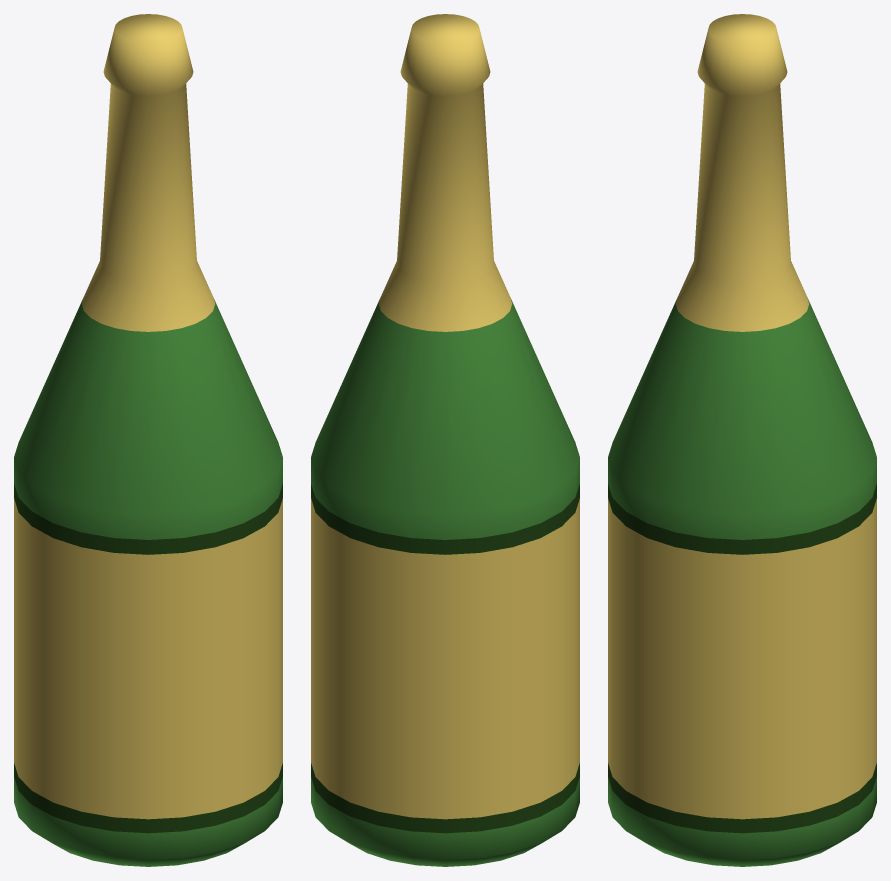
Rendered from champaign.fbx.
The picture shows the model from 3 angles, left to right: view 1: azimuth 30°, elevation 25°; view 2: azimuth 150°, elevation 25°; view 3: azimuth 270°, elevation 25°; orthographic projection.
Visible parts, largest first — view 1: Champaign; view 2: Champaign; view 3: Champaign.
Part boxes in pixels (x1,y1,x2,y2): Champaign: (14, 14, 282, 866); Champaign: (311, 14, 579, 866); Champaign: (608, 14, 876, 866).
Size of the model in its own units: 5.38 by 5.38 by 17.47.
